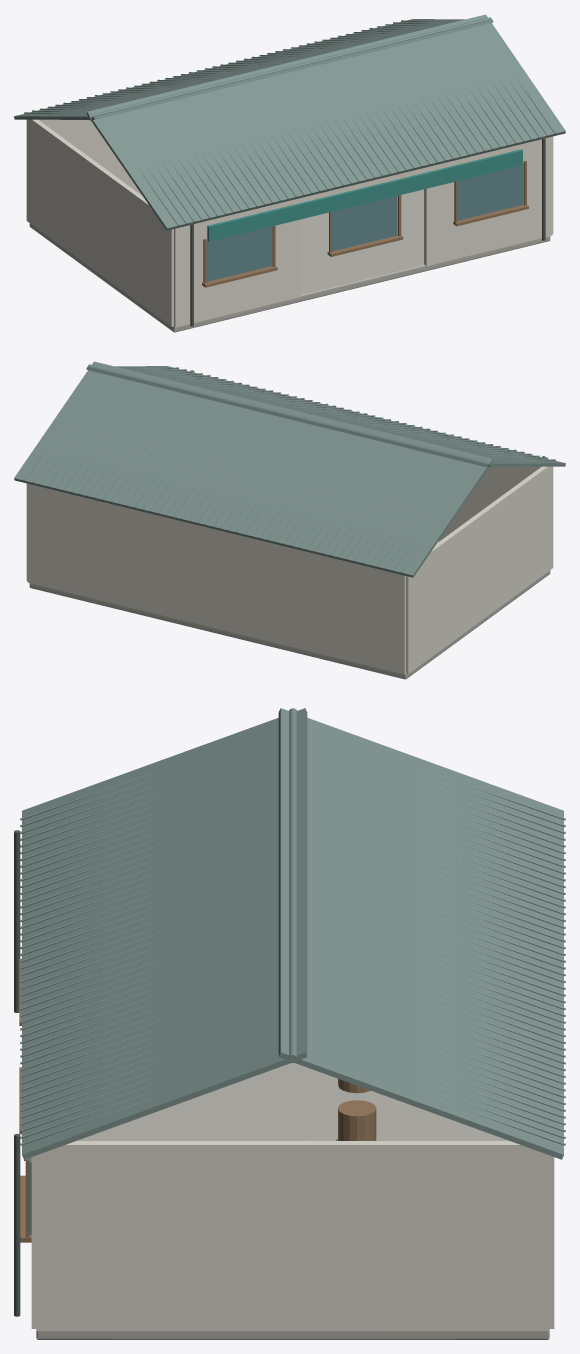
File: museum.glb
The picture shows the model from 3 angles, top to bottom: view 1: azimuth 30°, elevation 25°; view 2: azimuth 150°, elevation 25°; view 3: azimuth 270°, elevation 25°; orthographic projection. The views are drawn at different scales.
Parts seen in each view (by area): view 1: roof, plaster, concrete, glass, teal, wood, steel; view 2: roof, plaster, concrete; view 3: roof, plaster, concrete, wood, steel.
Part boxes in pixels (x1,y1,x2,y2): roof: [14, 14, 565, 230]; plaster: [26, 119, 553, 327]; concrete: [29, 189, 550, 332]; glass: [206, 164, 523, 281]; teal: [207, 149, 522, 241]; wood: [202, 160, 528, 287]; steel: [190, 137, 545, 326]; roof: [14, 361, 565, 577]; plaster: [26, 466, 553, 674]; concrete: [29, 541, 550, 679]; roof: [20, 708, 565, 1159]; plaster: [31, 1141, 554, 1330]; concrete: [36, 1063, 549, 1339]; wood: [19, 959, 376, 1242]; steel: [14, 830, 337, 1316].
Size of the model in its own units: 12.8 by 5.13 by 8.61.
